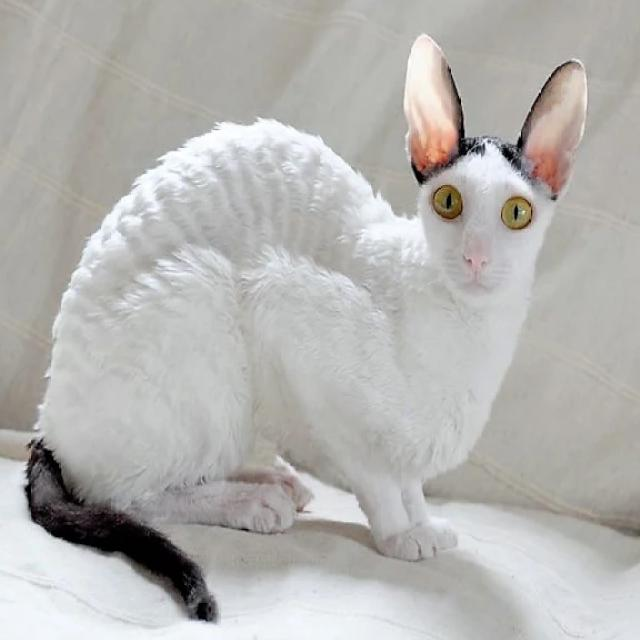Cornish Rex: (21, 27, 593, 631)
